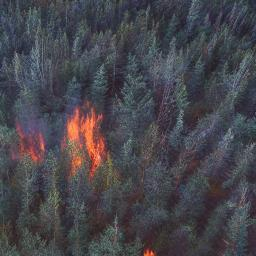Medium fire: (61, 105, 112, 180)
Small fire: (9, 127, 47, 165), (137, 245, 158, 256)
